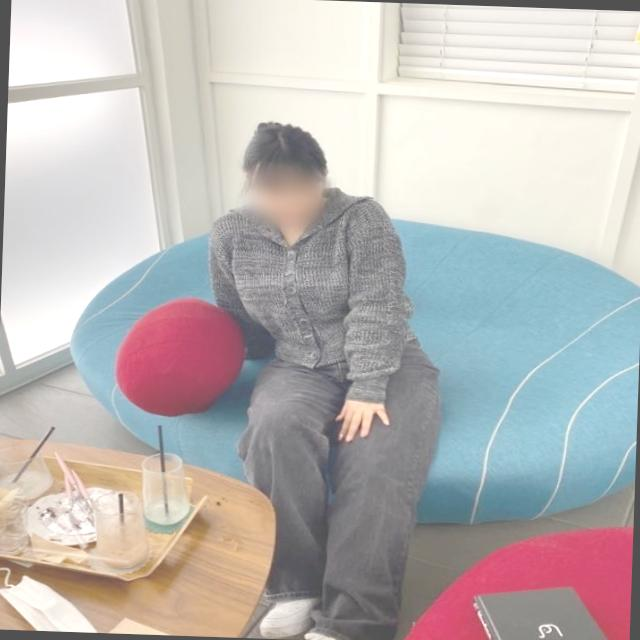cardigan: (207, 181, 426, 404)
denimpants: (223, 335, 442, 640)
